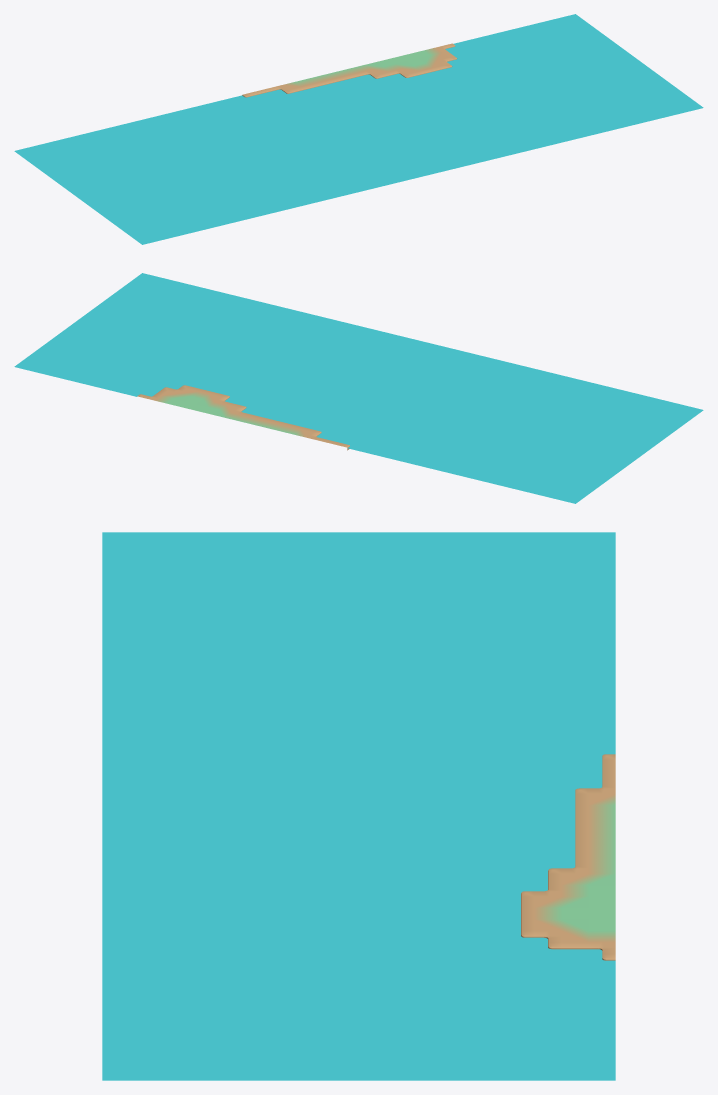
The model's file is Terrain Mesh Optimized.glb.
The picture shows the model from 3 angles, top to bottom: view 1: azimuth 30°, elevation 25°; view 2: azimuth 150°, elevation 25°; view 3: azimuth 270°, elevation 25°; orthographic projection. The views are drawn at different scales.
Visible parts, largest first — view 1: square_water_detail2; view 2: square_water_detail2; view 3: square_water_detail2.
Boxes of the visible parts, left/top/right/bottom form: square_water_detail2: left=14, top=14, right=703, bottom=244; square_water_detail2: left=14, top=273, right=703, bottom=503; square_water_detail2: left=102, top=532, right=615, bottom=1080.
Bounding box in the file's own units: 96 × 0.4588 × 38.
4 materials, 1 textured.
